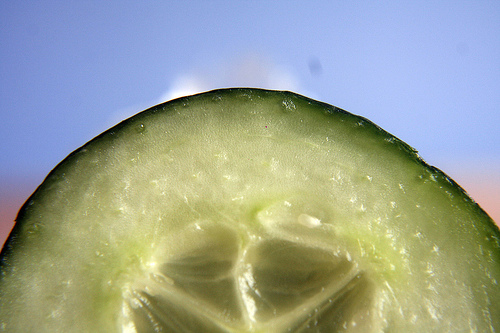cucumber: (2, 86, 499, 332)
